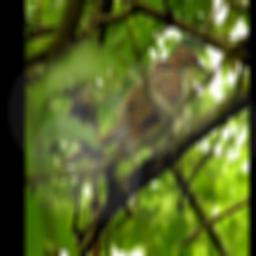Cuckoo: (56, 42, 209, 170)
